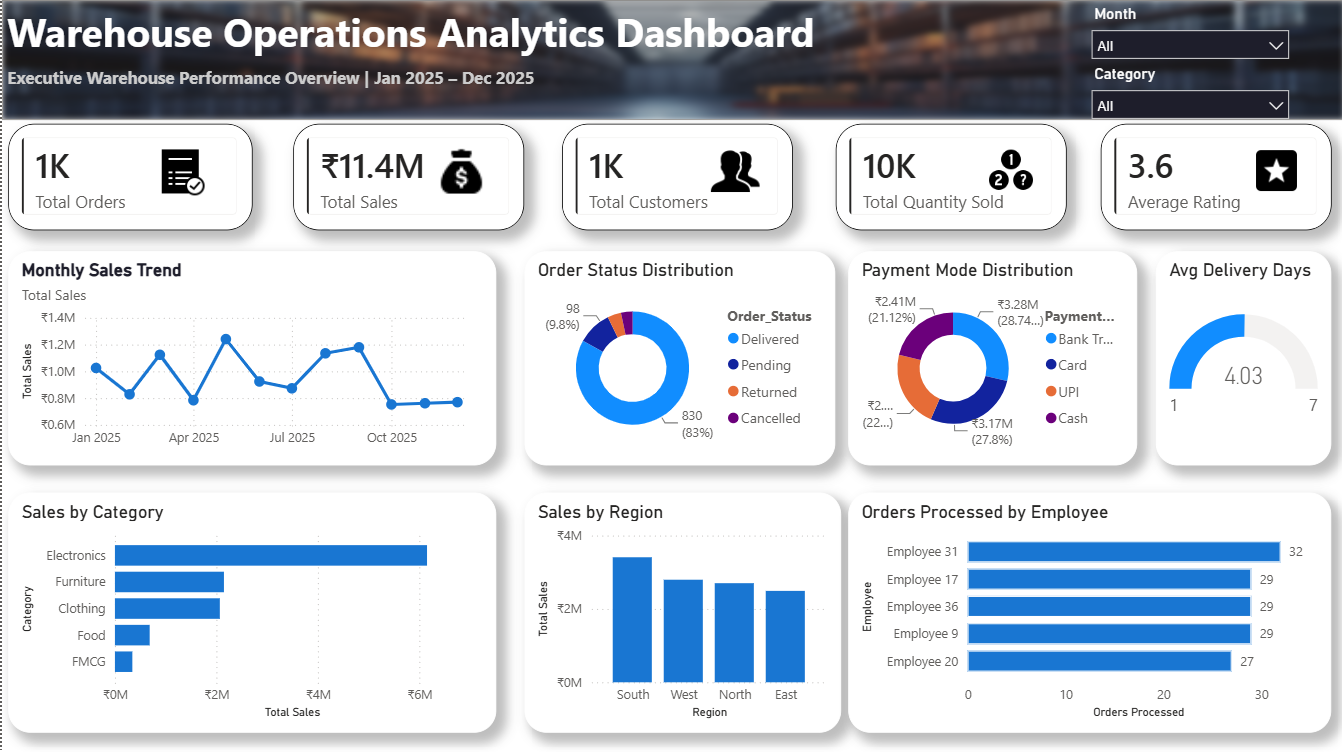

This screenshot's page, from the dashboard's own definition file:
{"tool":"powerbi","page":{"name":"Page 1","canvas":[1280,720],"ordinal":0},"visuals":[{"type":"image","box":[0,0,1280,114.3],"z":0},{"type":"textbox","box":[0,0,617.1,68.6],"z":1000},{"type":"textbox","box":[0,57.1,448.6,37.1],"z":2000},{"type":"slicer","fields":{"Values":["WMS_Data.Order_Date.Variation.Date Hierarchy.Month"]},"box":[1027.1,0,208.6,57.1],"z":3000},{"type":"slicer","fields":{"Values":["WMS_Data.Category"]},"box":[1027.1,57.1,208.6,57.1],"z":4000},{"type":"cardVisual","fields":{"Data":["CountNonNull(WMS_Data.Order_ID)"]},"box":[6.2,117.5,232.5,101.2],"z":5000},{"type":"image","box":[130,140,80,45.7],"z":6000},{"type":"cardVisual","fields":{"Data":["Sum(WMS_Data.Total_Amount)"]},"box":[277.5,117.5,220,101.2],"z":7000},{"type":"cardVisual","fields":{"Data":["CountNonNull(WMS_Data.Customer_ID)"]},"box":[533.8,117.5,220,101.2],"z":8000},{"type":"cardVisual","fields":{"Data":["Sum(WMS_Data.Quantity)"]},"box":[793.8,117.5,220,101.2],"z":9000},{"type":"cardVisual","fields":{"Data":["Avg(WMS_Data.Rating)"]},"box":[1046.2,117.5,220,101.2],"z":10000},{"type":"image","box":[403.8,140,67.5,48.8],"z":11000},{"type":"image","box":[658.8,138.8,80,46.2],"z":12000},{"type":"image","box":[1173.8,138.8,80,46.2],"z":12001},{"type":"image","box":[925,138.8,80,46.2],"z":12002},{"type":"lineChart","title":"Monthly Sales Trend","fields":{"Category":["WMS_Data.Order_Date.Variation.Date Hierarchy.Year","WMS_Data.Order_Date.Variation.Date Hierarchy.Quarter","WMS_Data.Order_Date.Variation.Date Hierarchy.Month"],"Y":["WMS_Data.Total Sales"]},"box":[6.2,238.8,465,203.8],"z":12003},{"type":"donutChart","title":"Order Status Distribution","fields":{"Category":["WMS_Data.Order_Status"],"Y":["CountNonNull(WMS_Data.Order_ID)"]},"box":[497.5,238.8,296.2,203.8],"z":12004},{"type":"clusteredBarChart","title":"Sales by Category","fields":{"Category":["WMS_Data.Category"],"Y":["WMS_Data.Total Sales"]},"box":[6.2,468.8,465,228.8],"z":12005},{"type":"clusteredColumnChart","title":"Sales by Region","fields":{"Category":["WMS_Data.Region"],"Y":["WMS_Data.Total Sales"]},"box":[497.5,468.8,301.2,228.8],"z":12006},{"type":"donutChart","title":"Payment Mode Distribution","fields":{"Category":["WMS_Data.Payment_Mode"],"Y":["WMS_Data.Total Sales"]},"box":[806.2,238.8,275,203.8],"z":12007},{"type":"barChart","fields":{"Category":["WMS_Data.Employee"],"Y":["WMS_Data.Orders Processed"]},"box":[806.2,468.8,460,228.8],"z":12008},{"type":"gauge","title":"Average Delivery Days","fields":{"Y":["Avg(WMS_Data.Delivery_Days)"],"MinValue":["Min(WMS_Data.Delivery_Days)1"],"MaxValue":["Max(WMS_Data.Delivery_Days)2"]},"box":[1098.8,238.8,167.5,203.8],"z":12009}]}

Visuals, with their boxes in screenshot pixels (x1, y1, x2, y2), scaled from the page's 1280x720 canvas onto the 1342x752 screenshot:
image: box=[0, 0, 1341, 119]
textbox: box=[0, 0, 647, 72]
textbox: box=[0, 60, 470, 98]
slicer - WMS_Data.Order_Date.Variation.Date Hierarchy.Month: box=[1077, 0, 1296, 60]
slicer - WMS_Data.Category: box=[1077, 60, 1296, 119]
cardVisual - CountNonNull(WMS_Data.Order_ID): box=[7, 123, 250, 228]
image: box=[136, 146, 220, 194]
cardVisual - Sum(WMS_Data.Total_Amount): box=[291, 123, 522, 228]
cardVisual - CountNonNull(WMS_Data.Customer_ID): box=[560, 123, 790, 228]
cardVisual - Sum(WMS_Data.Quantity): box=[832, 123, 1063, 228]
cardVisual - Avg(WMS_Data.Rating): box=[1097, 123, 1328, 228]
image: box=[423, 146, 494, 197]
image: box=[691, 145, 775, 193]
image: box=[1231, 145, 1315, 193]
image: box=[970, 145, 1054, 193]
"Monthly Sales Trend" lineChart: box=[7, 249, 494, 462]
"Order Status Distribution" donutChart: box=[522, 249, 832, 462]
"Sales by Category" clusteredBarChart: box=[7, 490, 494, 729]
"Sales by Region" clusteredColumnChart: box=[522, 490, 837, 729]
"Payment Mode Distribution" donutChart: box=[845, 249, 1134, 462]
barChart - WMS_Data.Employee x WMS_Data.Orders Processed: box=[845, 490, 1328, 729]
"Average Delivery Days" gauge: box=[1152, 249, 1328, 462]
